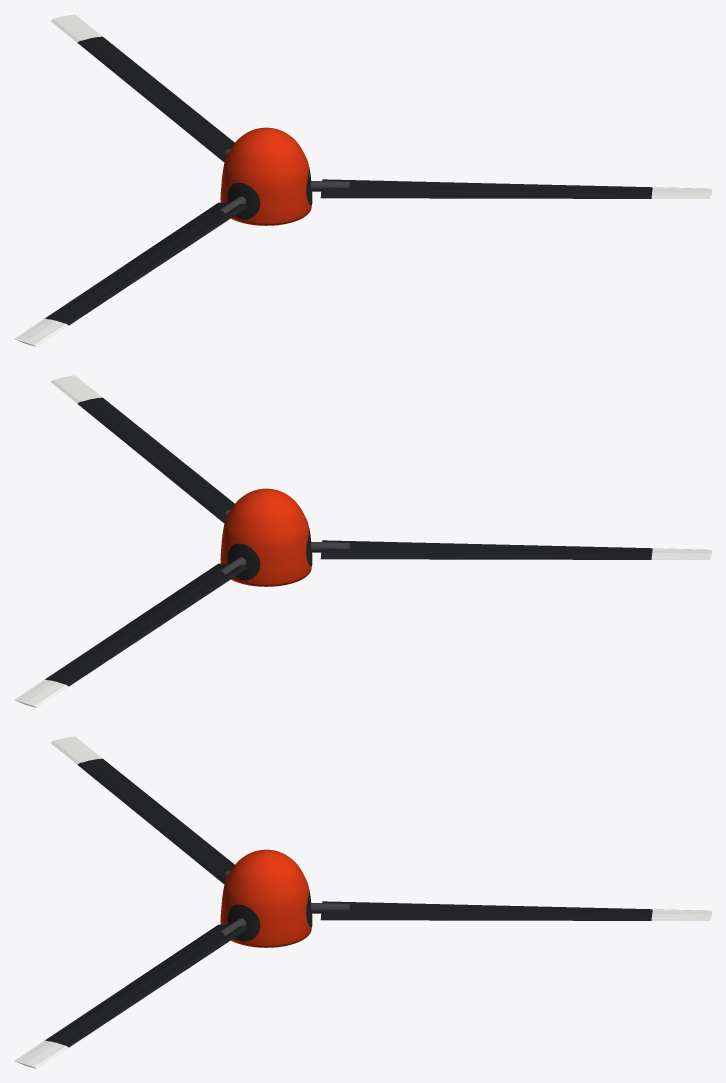
File: rotor_4.glb
3 renders of one model, top to bottom at view 1: azimuth 30°, elevation 25°; view 2: azimuth 150°, elevation 25°; view 3: azimuth 270°, elevation 25°, orthographic.
Visible parts, largest first — view 1: rotor_4; view 2: rotor_4; view 3: rotor_4.
Boxes of the visible parts, x1=… form: rotor_4: x1=14, y1=14, x2=711, y2=346; rotor_4: x1=14, y1=375, x2=711, y2=707; rotor_4: x1=14, y1=736, x2=711, y2=1068.
Bounding box in the file's own units: 4.94 × 0.5303 × 4.41.
